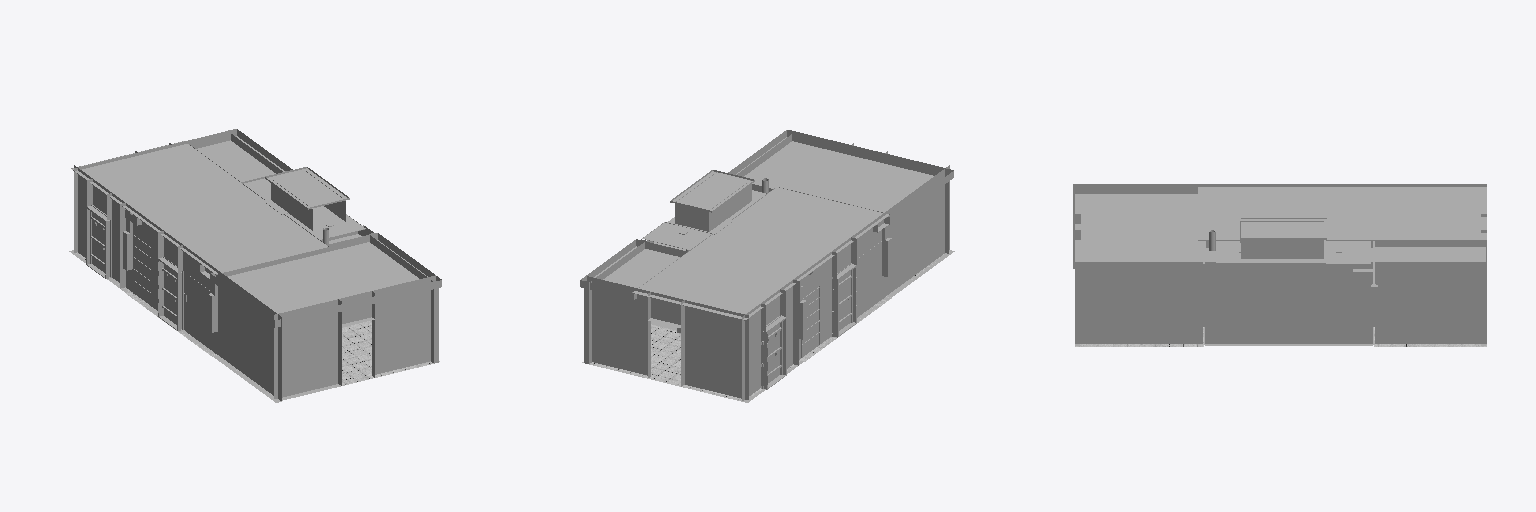
The picture shows the model from 3 angles: view 1: azimuth 30°, elevation 25°; view 2: azimuth 150°, elevation 25°; view 3: azimuth 270°, elevation 25°; orthographic projection.
Size of the model in its own units: 967 by 593 by 2058.
23 materials, 1 textured.